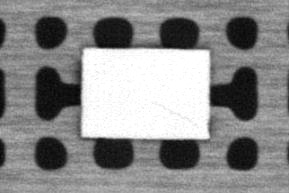DIE_CRACK: (146, 98, 198, 127)
